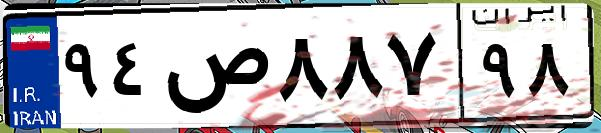4: (110, 28, 158, 98)
7: (385, 28, 445, 110)
8: (270, 28, 330, 110), (330, 28, 385, 110), (525, 38, 570, 115)
9: (57, 26, 110, 100), (475, 38, 525, 113)
ص: (158, 20, 270, 120)
